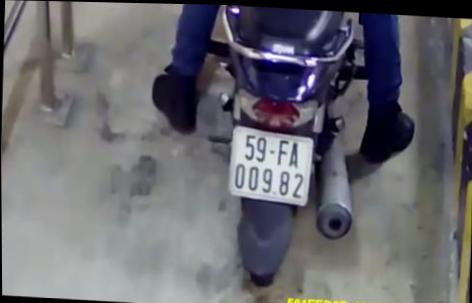LP: (226, 122, 316, 205)
